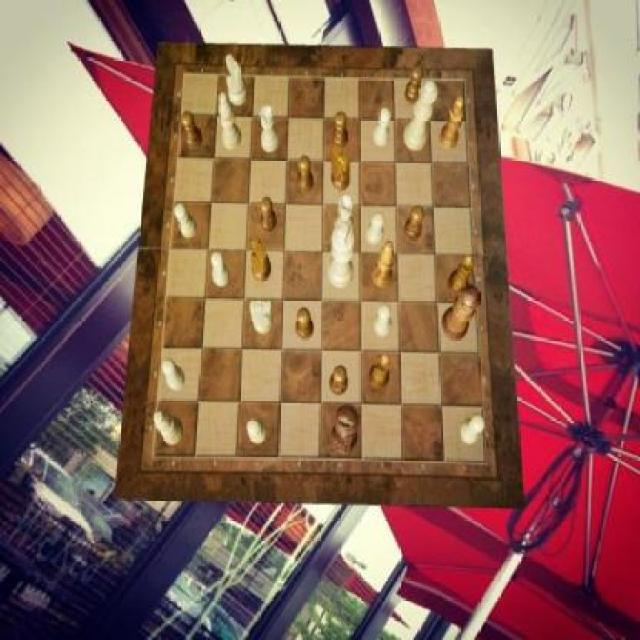bishop: (440, 96, 465, 152), (372, 240, 395, 288)
black-bishop: (331, 404, 360, 456)
black-king: (251, 237, 271, 282), (332, 146, 350, 192)
black-knight: (182, 111, 202, 149), (404, 206, 424, 241), (405, 64, 422, 104), (332, 111, 350, 148), (297, 156, 314, 192), (260, 197, 277, 231), (295, 308, 313, 340), (331, 364, 348, 396)
black-pawn: (442, 284, 481, 340)
black-queen: (448, 254, 474, 296), (369, 352, 392, 390)
black-rook: (218, 92, 242, 150), (154, 409, 184, 444)
white-bishop: (328, 222, 354, 289)
white-king: (226, 54, 247, 106), (250, 299, 274, 333)
white-knight: (174, 203, 197, 239), (163, 358, 186, 391), (460, 414, 485, 444), (211, 251, 230, 287), (366, 210, 386, 244), (374, 108, 391, 148), (374, 303, 391, 337), (248, 418, 268, 444)
white-pawn: (403, 80, 439, 152)
white-queen: (260, 106, 280, 152), (336, 194, 356, 239)
